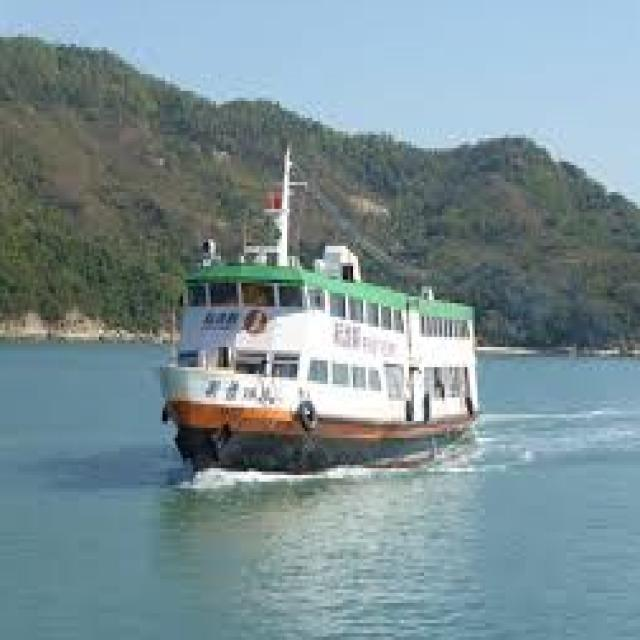passenger ship: (177, 178, 494, 458)
